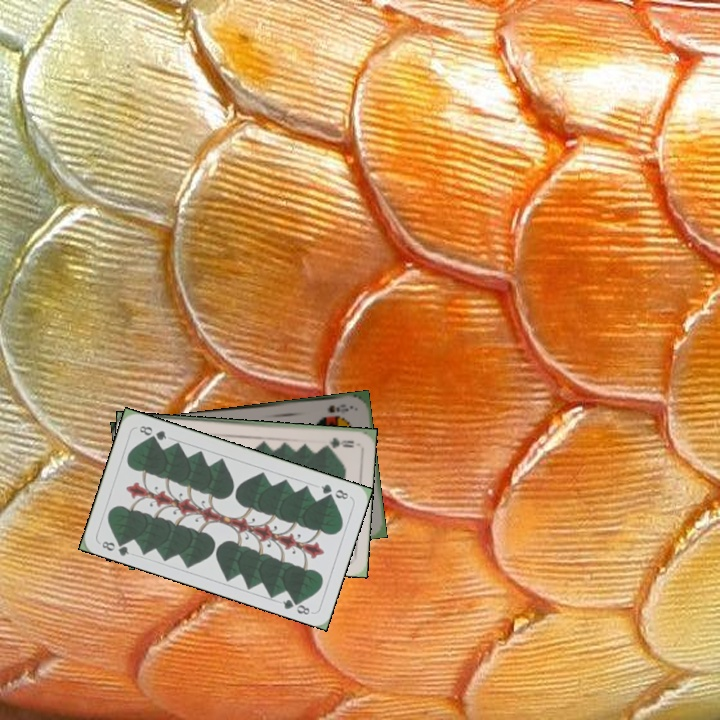G8: (98, 535, 132, 559), (317, 480, 351, 502)
G9: (320, 433, 356, 450)
SO: (323, 401, 351, 416)
